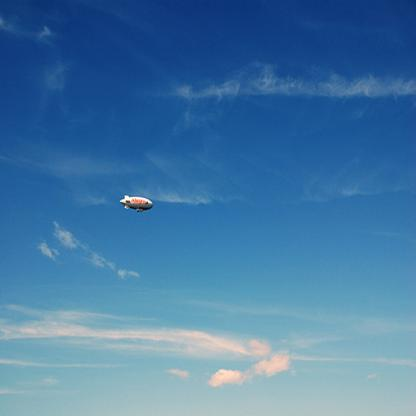Airship: (117, 191, 155, 217)
